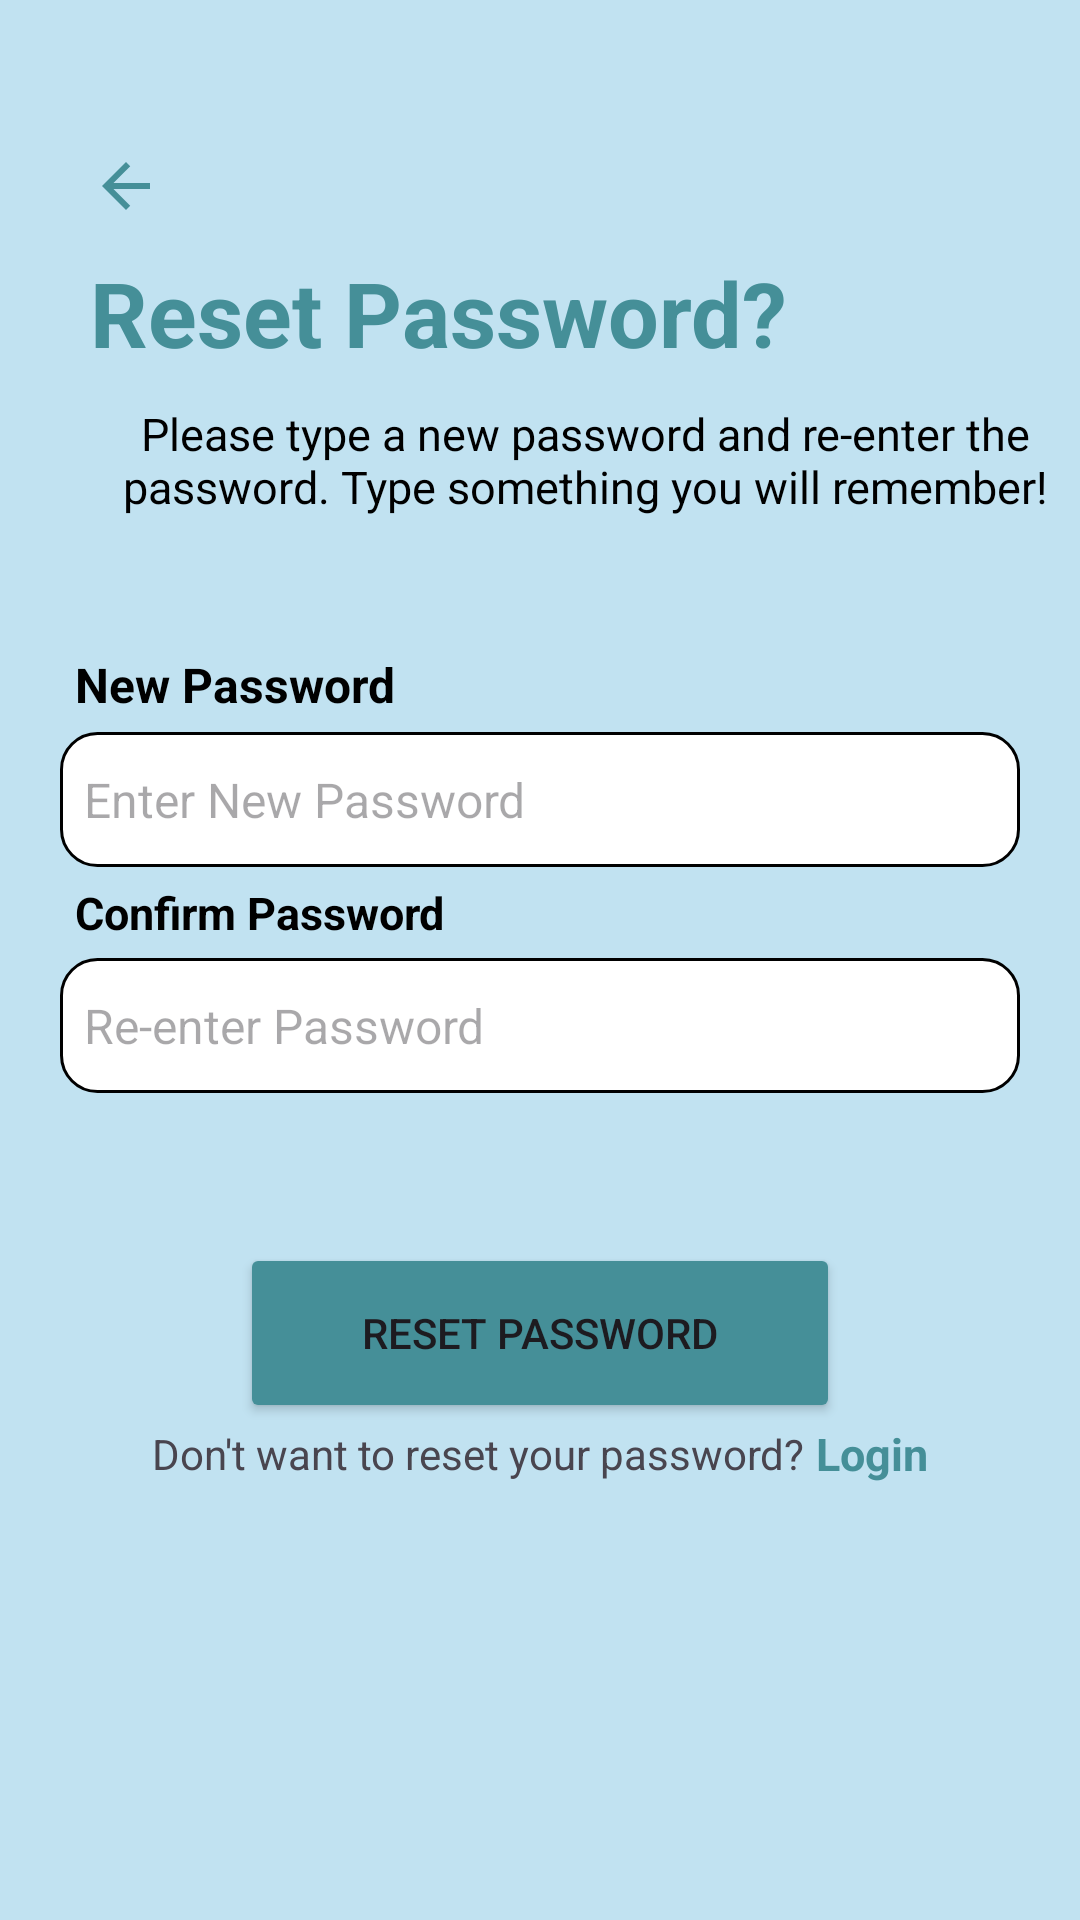

Named icons in this screenshot (1080 x 1920) and their bounding boxes, (x1, y1, x2, y2):
back arrow: (102, 162, 150, 210)
